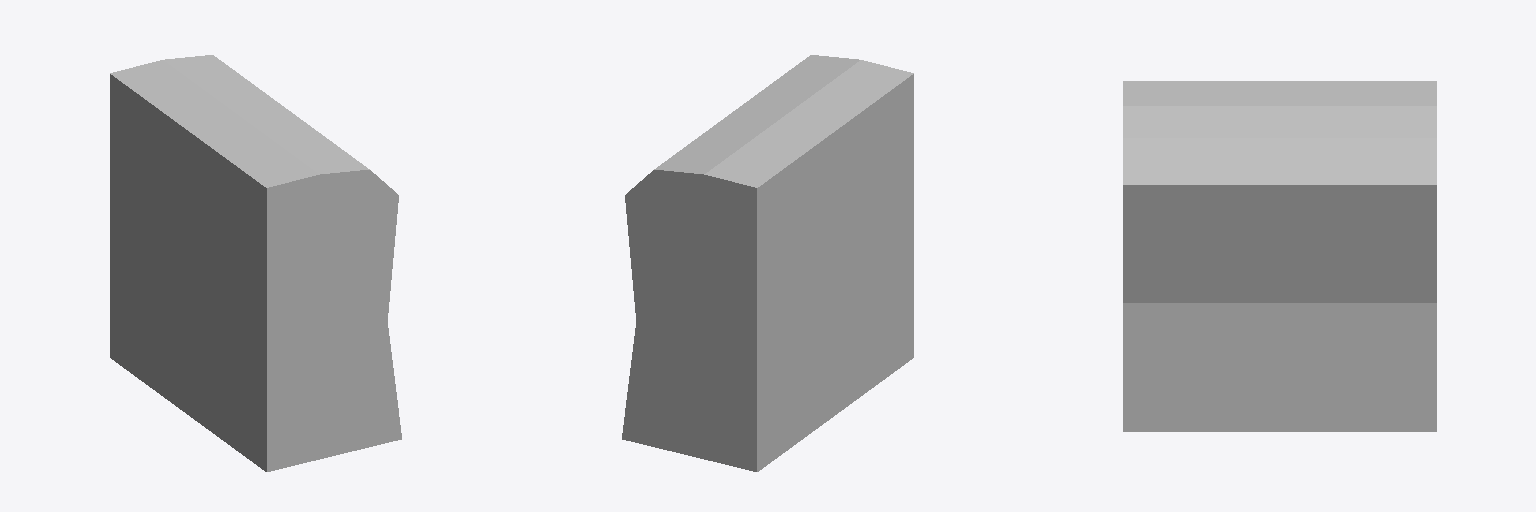
The model's file is liist.obj.
3 renders of one model, left to right at view 1: azimuth 30°, elevation 25°; view 2: azimuth 150°, elevation 25°; view 3: azimuth 270°, elevation 25°, orthographic.
Visible parts, largest first — view 1: BezierCurve; view 2: BezierCurve; view 3: BezierCurve.
Boxes of the visible parts, box(x1,y1,x2,y2) form: BezierCurve: box(110, 55, 401, 471); BezierCurve: box(622, 55, 913, 471); BezierCurve: box(1123, 81, 1436, 431).
Size of the model in its own units: 1 by 2.01 by 2.